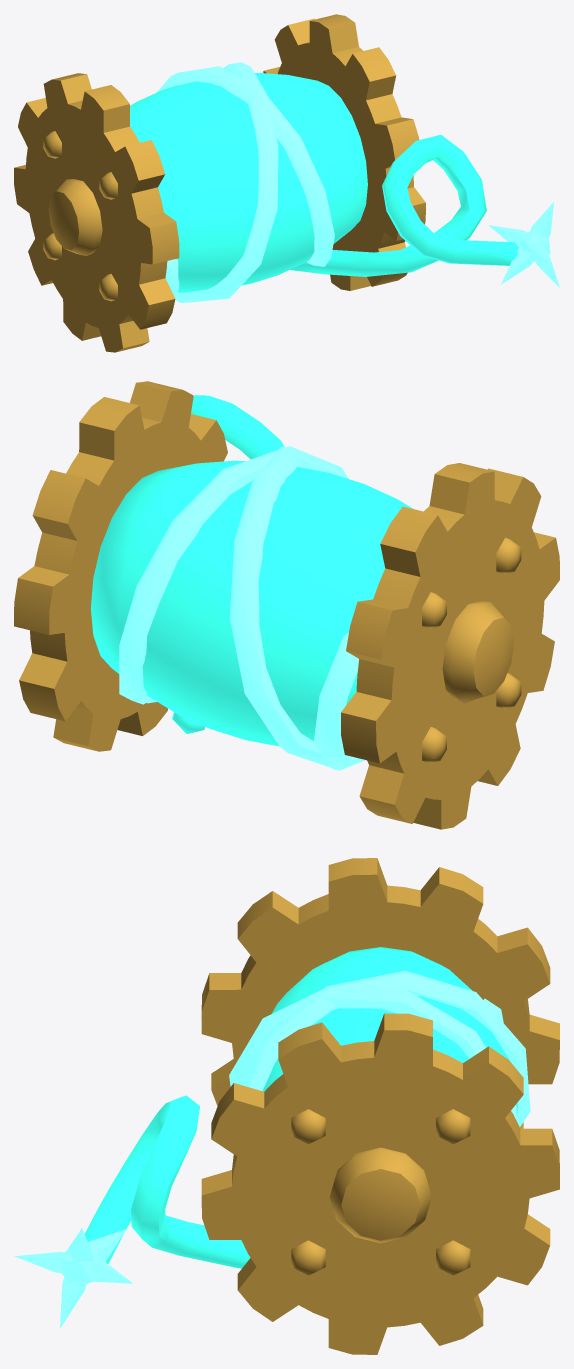
Rendered from item_arcane_thread.glb.
3 renders of one model, top to bottom at view 1: azimuth 30°, elevation 25°; view 2: azimuth 150°, elevation 25°; view 3: azimuth 270°, elevation 25°, orthographic. The views are drawn at different scales.
Parts seen in each view (by area): view 1: ArcaneThread; view 2: ArcaneThread; view 3: ArcaneThread.
Part boxes in pixels (<box>): ArcaneThread: <box>14,14,559,352</box>; ArcaneThread: <box>14,381,559,829</box>; ArcaneThread: <box>14,858,559,1354</box>.
Size of the model in its own units: 0.2441 by 0.154 by 0.2346.
